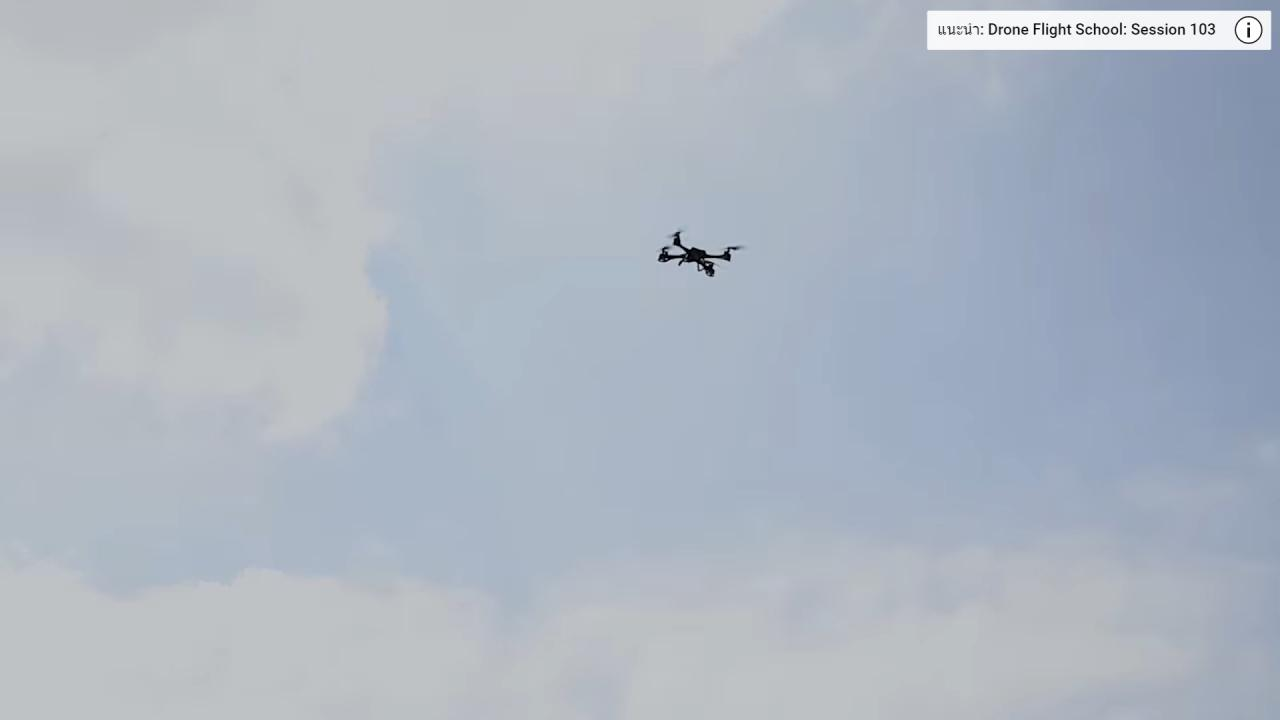Drone: (646, 215, 754, 288)
